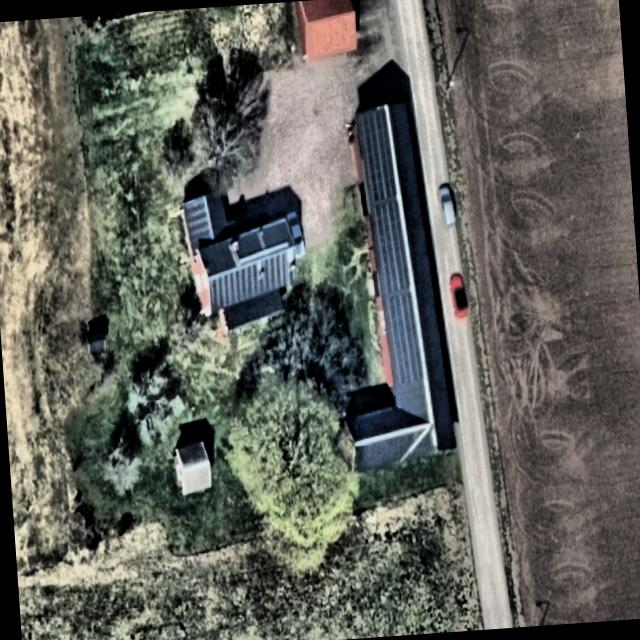roof_pv: (354, 108, 396, 211), (384, 292, 426, 388), (374, 202, 410, 296)
